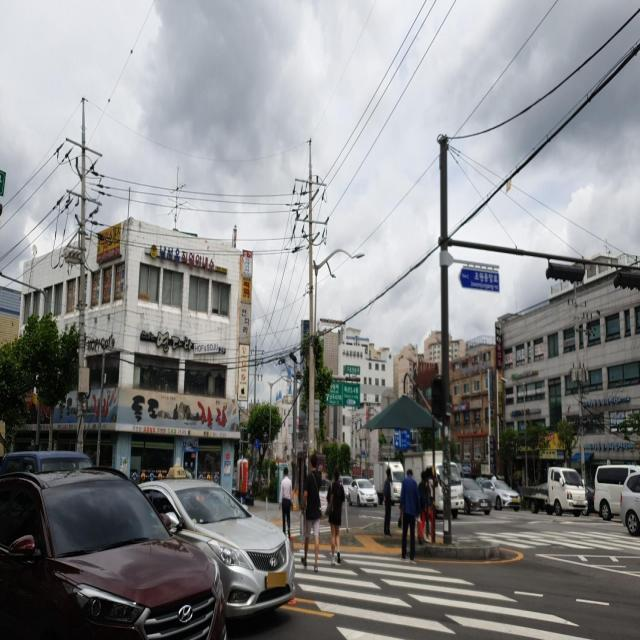빨간불: (472, 527, 640, 556)
횡단보도: (290, 546, 597, 640)
